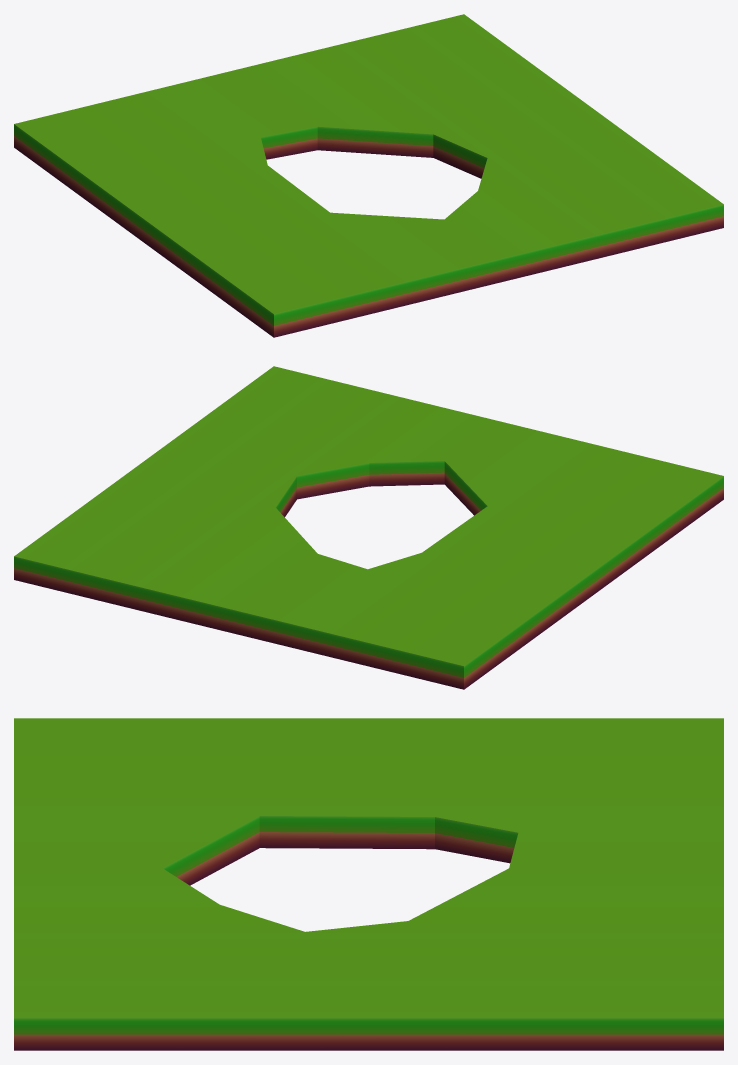
File: W1_GROUND_2.fbx
3 renders of one model, top to bottom at view 1: azimuth 30°, elevation 25°; view 2: azimuth 150°, elevation 25°; view 3: azimuth 270°, elevation 25°, orthographic. The views are drawn at different scales.
Parts seen in each view (by area): view 1: W1_GROUND_2; view 2: W1_GROUND_2; view 3: W1_GROUND_2.
Part boxes in pixels (<box>): W1_GROUND_2: <box>14,14,723,337</box>; W1_GROUND_2: <box>14,366,723,689</box>; W1_GROUND_2: <box>14,718,723,1050</box>.
Size of the model in its own units: 2000 by 100 by 2000.
